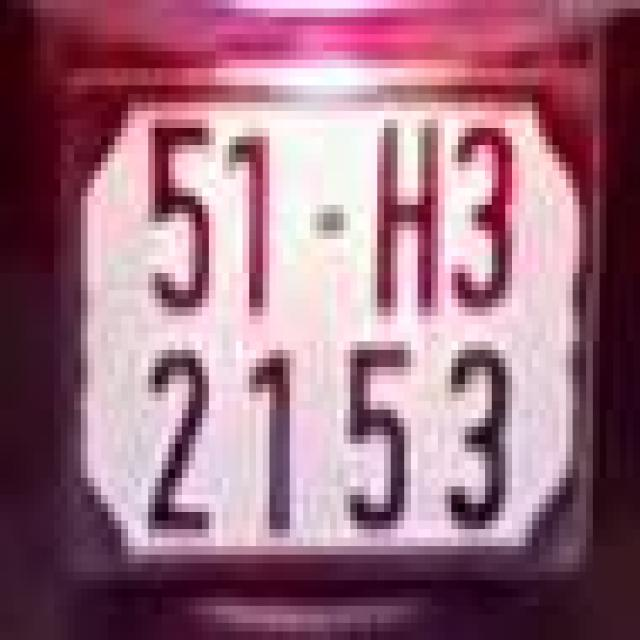1: (242, 345, 310, 542), (226, 98, 280, 337)
2: (138, 337, 233, 542)
3: (438, 337, 519, 542), (444, 107, 518, 320)
5: (135, 106, 222, 328), (334, 333, 421, 546)
H: (367, 120, 455, 324)
